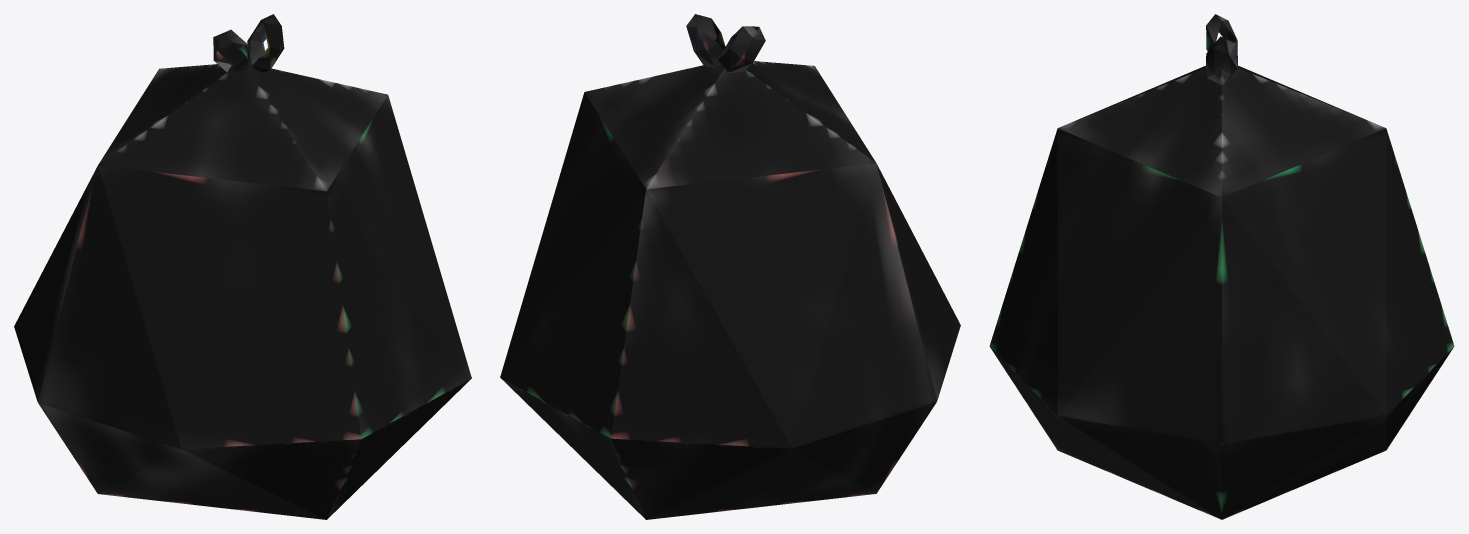
The model's file is Trash1.fbx.
3 views of the same model, side by side, from view 1: azimuth 30°, elevation 25°; view 2: azimuth 150°, elevation 25°; view 3: azimuth 270°, elevation 25° (orthographic). The views are drawn at different scales.
Parts seen in each view (by area): view 1: octahedron; view 2: octahedron; view 3: octahedron.
Boxes of the visible parts, box(x1,y1,x2,y2) form: octahedron: box(14, 14, 471, 519); octahedron: box(500, 14, 960, 519); octahedron: box(989, 14, 1454, 519).
Size of the model in its own units: 72.5 by 73.41 by 72.5.
1 material, 1 textured.
